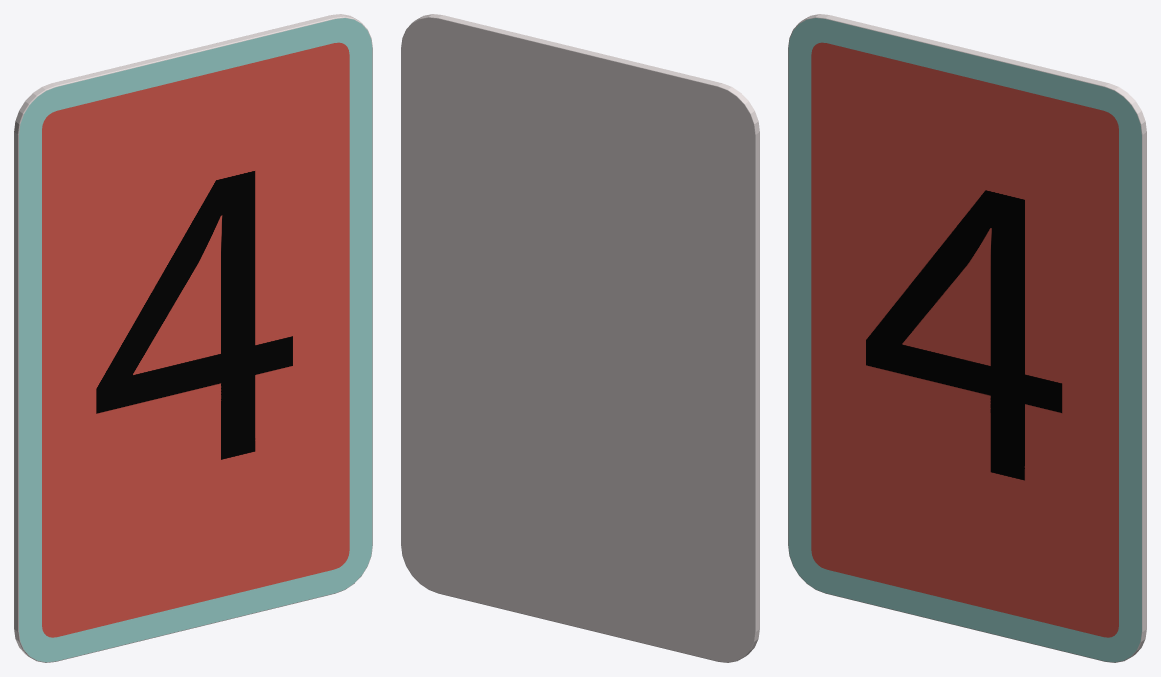
The model's file is 4red.fbx.
3 renders of one model, left to right at view 1: azimuth 30°, elevation 25°; view 2: azimuth 150°, elevation 25°; view 3: azimuth 330°, elevation 25°, orthographic.
Visible parts, largest first — view 1: red4; view 2: red4; view 3: red4.
Part boxes in pixels (x1,y1,x2,y2): red4: (14,14,372,662); red4: (401,14,759,662); red4: (788,14,1146,662).
Bounding box in the file's own units: 200 × 310 × 4.34.
Materials: 3 (1 with a texture image).
